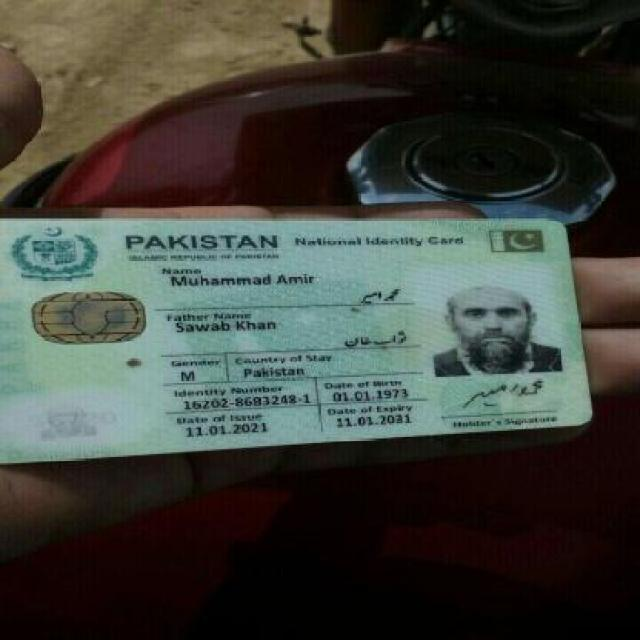Front: (6, 209, 599, 445)
